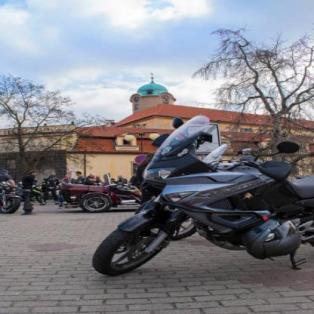Motocicleta: (79, 108, 313, 283)
